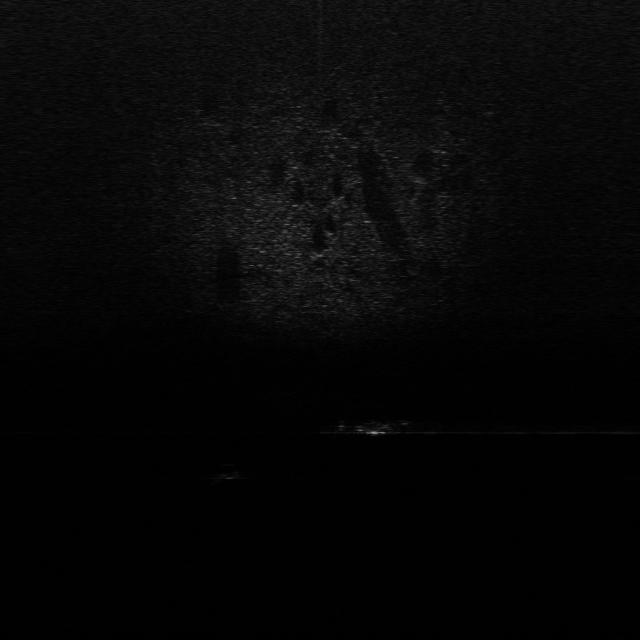ball: (216, 461, 243, 482)
human body: (324, 416, 416, 438)
